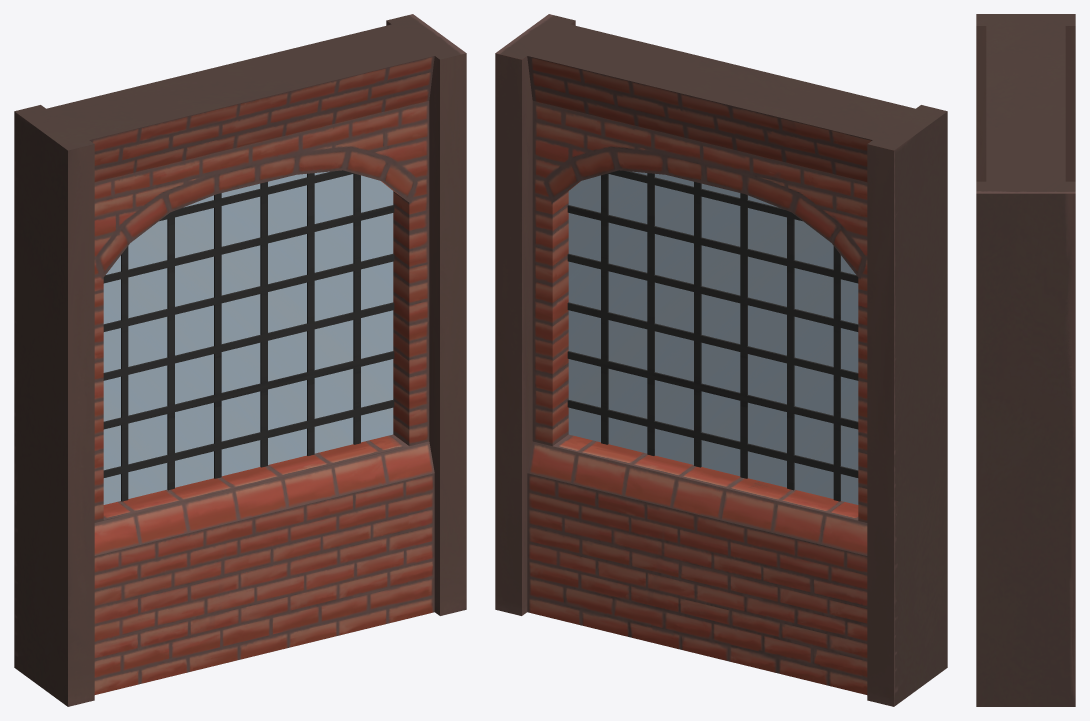
Rendered from Wall.fbx.
3 views of the same model, side by side, from view 1: azimuth 30°, elevation 25°; view 2: azimuth 150°, elevation 25°; view 3: azimuth 270°, elevation 25° (orthographic). The views are drawn at different scales.
Parts seen in each view (by area): view 1: Plane, Plane.001, Plane.002; view 2: Plane, Plane.001, Plane.002; view 3: Plane.
Part boxes in pixels (x1,y1,x2,y2): Plane: (14, 14, 466, 706); Plane.001: (103, 171, 393, 504); Plane.002: (103, 170, 394, 501); Plane: (495, 14, 947, 706); Plane.001: (568, 171, 858, 504); Plane.002: (567, 170, 858, 501); Plane: (976, 14, 1075, 706).
Size of the model in its own units: 600 by 800 by 140.
